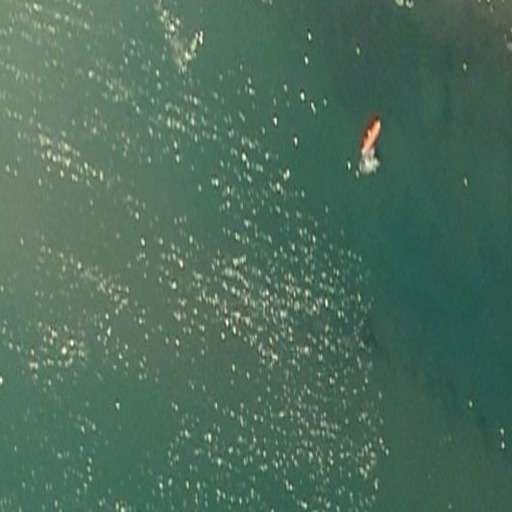ship: (358, 116, 384, 159)
